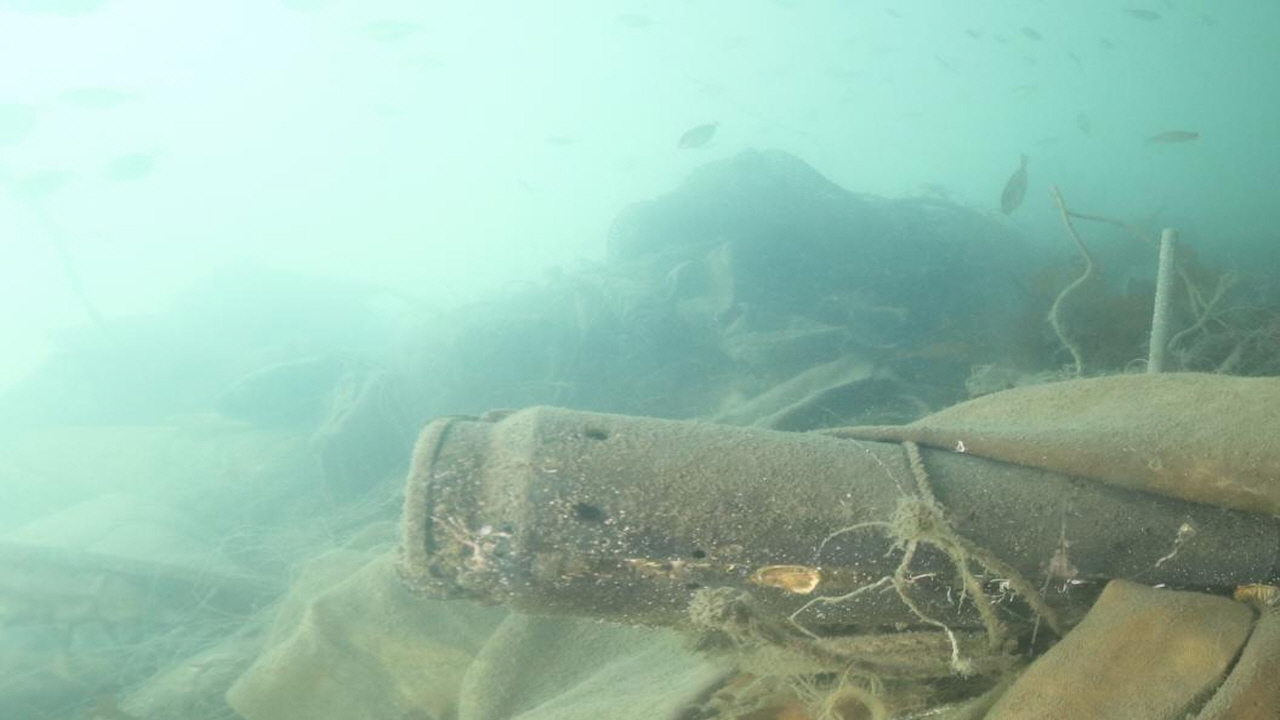bundle of ropes: (728, 438, 1067, 679), (1048, 187, 1226, 370)
eel fish trap: (403, 370, 1280, 628)
